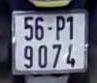0: (37, 44, 48, 69)
1: (65, 14, 77, 41)
4: (64, 41, 78, 68)
5: (21, 15, 34, 43)
6: (33, 14, 46, 42)
7: (50, 43, 64, 70)
9: (21, 44, 35, 70)
P: (52, 15, 66, 41)
